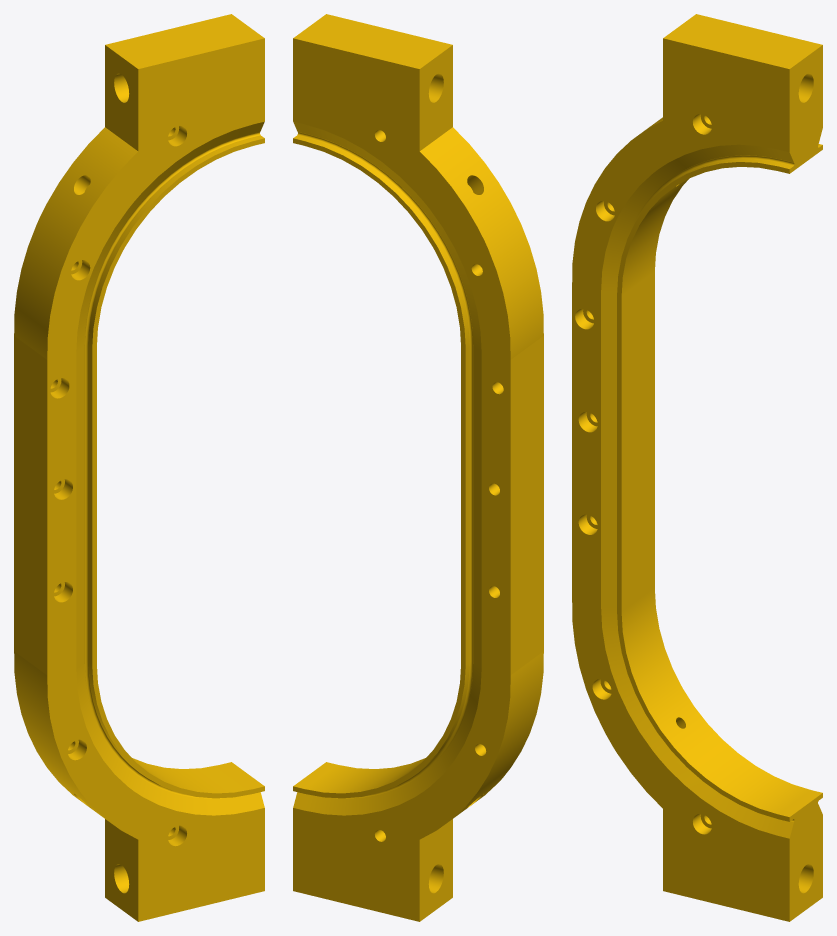
File: parte_izquerda.glb
3 renders of one model, left to right at view 1: azimuth 30°, elevation 25°; view 2: azimuth 150°, elevation 25°; view 3: azimuth 330°, elevation 25°, orthographic.
Parts seen in each view (by area): view 1: PARTE IZQUERDA; view 2: PARTE IZQUERDA; view 3: PARTE IZQUERDA.
Part boxes in pixels (left/top/right/bottom): PARTE IZQUERDA: left=14, top=14, right=264, bottom=921; PARTE IZQUERDA: left=293, top=14, right=543, bottom=921; PARTE IZQUERDA: left=572, top=14, right=822, bottom=921.
Size of the model in its own units: 0.189 by 0.708 by 0.05.
